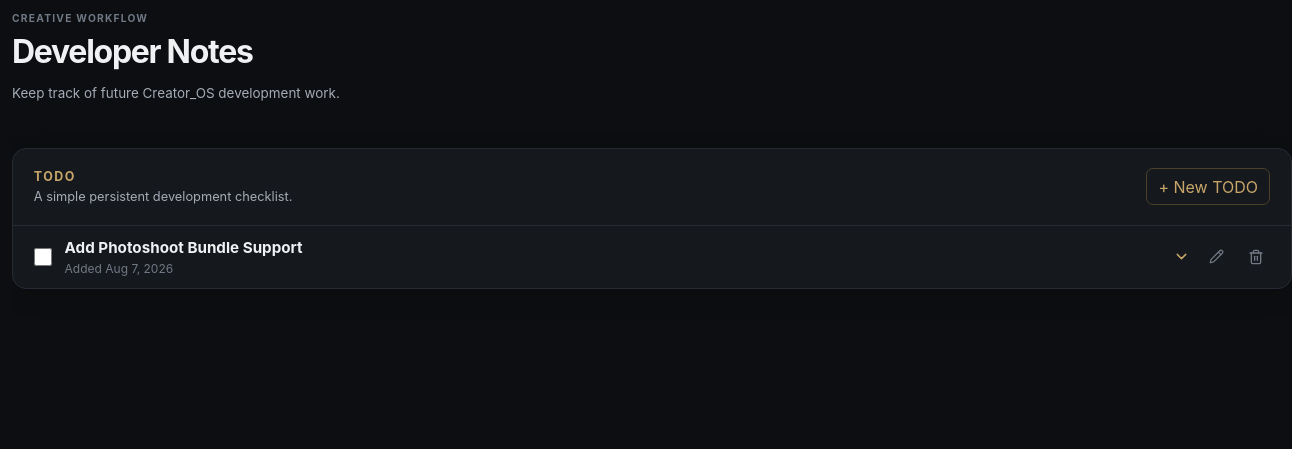
Test: DeveloperNotesPage › shows completion date only while completed and persists reopen
The width and height of the screenshot is (1292, 449).
Expected: the text "Add Photoshoot Bundle Support" is shown, left=65, top=238, right=303, bottom=257
Expected: the text "Added Aug 7, 2026" is shown, left=65, top=260, right=173, bottom=276
Click the checkbox named "complete". click: (43, 257)
box: left=34, top=248, right=52, bottom=266
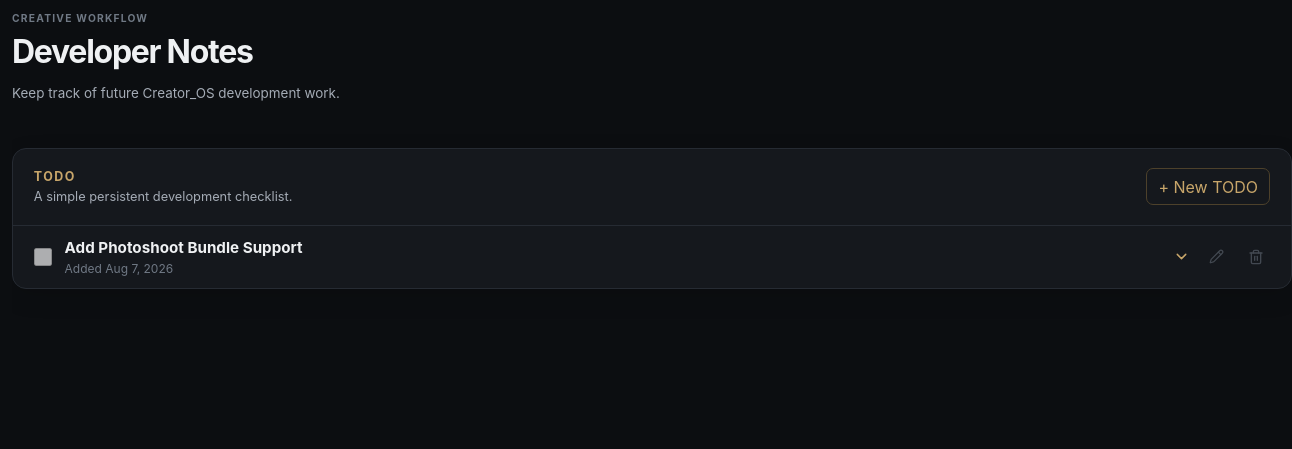
Click the button "Add Photoshoot Bundle Support Added Aug 7, 2026". click: (184, 248)
box: left=65, top=238, right=1190, bottom=276
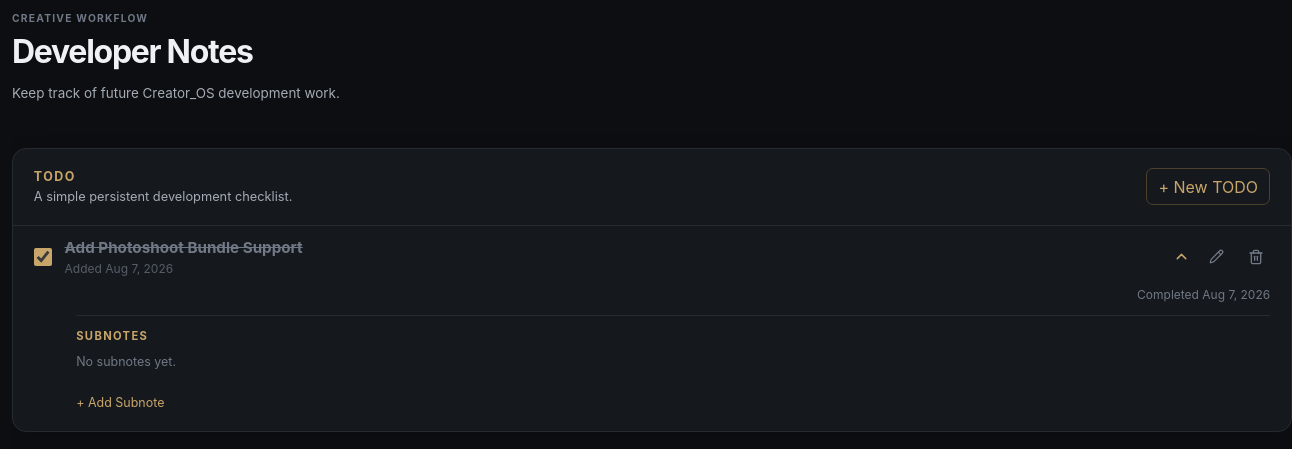
Expected: the text "Completed Aug 7, 2026" is shown, left=1137, top=287, right=1270, bottom=302
Click the checkbox named "open". click: (43, 257)
box: left=34, top=248, right=52, bottom=266
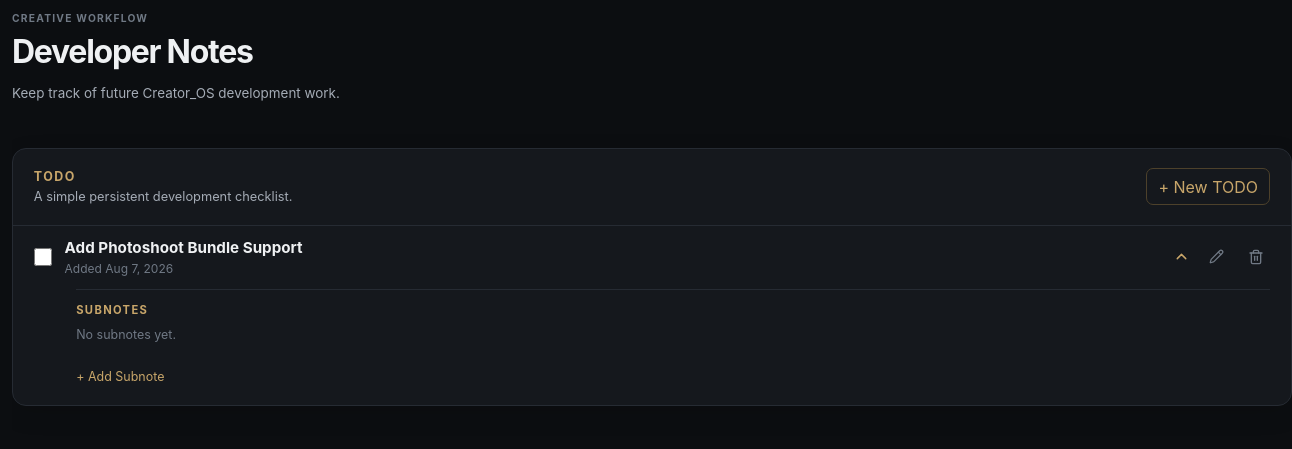
Expected: the text "Completed Aug" is gone
